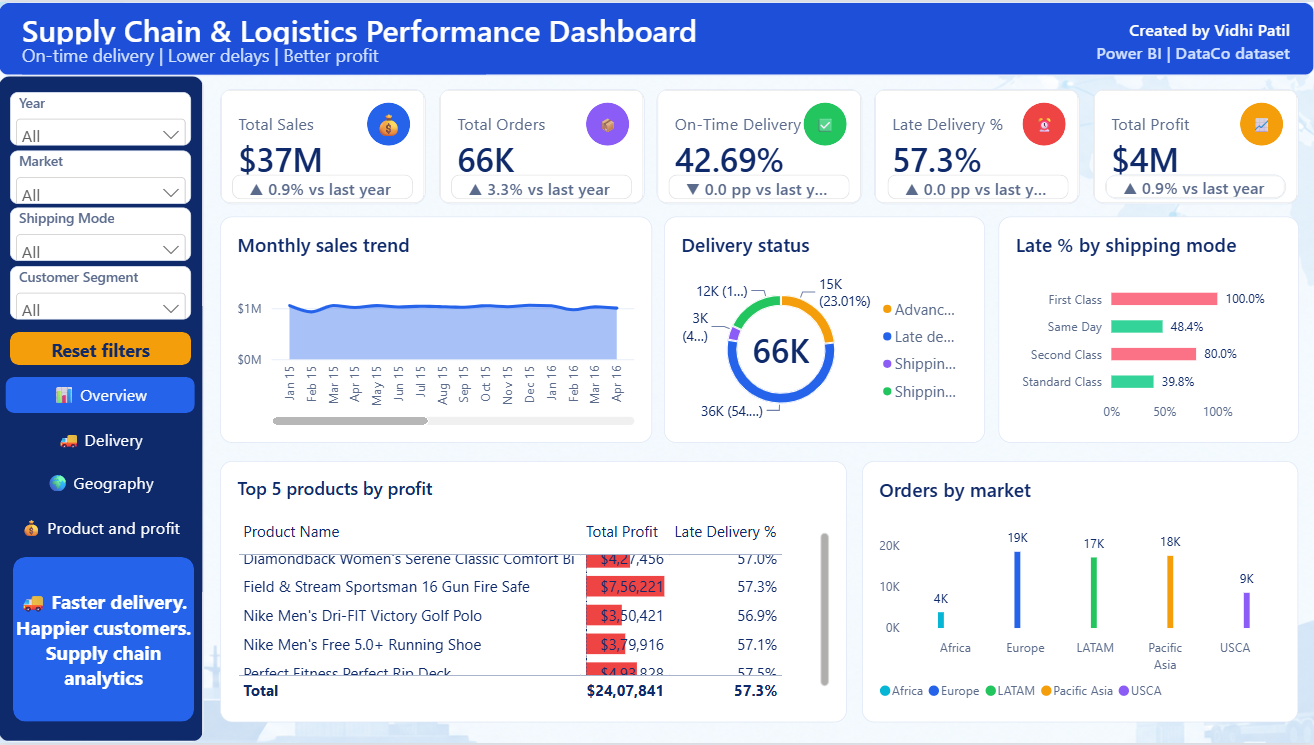

What the dashboard file says about the page in this screenshot:
{"tool":"powerbi","page":{"name":"📊 Overview","canvas":[1280,720],"ordinal":0},"visuals":[{"type":"shape","box":[0,0,1280,72],"z":0},{"type":"shape","box":[0,72,200,648],"z":1},{"type":"textbox","title":"Supply Chain & Logistics Performance Dashboard","box":[24,8,760,34],"z":2},{"type":"textbox","title":"On-time delivery | Lower delays | Better profit","box":[24,40,600,24],"z":3},{"type":"textbox","title":"Created by Vidhi Patil","box":[980,16,276,22],"z":4},{"type":"textbox","title":"Power BI | DataCo dataset","box":[980,38,276,22],"z":5},{"type":"slicer","fields":{"Values":["Dim_Date.Year"]},"box":[12,88,176,52],"z":6},{"type":"slicer","fields":{"Values":["Fact_Orders.Market"]},"box":[12,144,176,52],"z":7},{"type":"slicer","fields":{"Values":["Fact_Orders.Shipping Mode"]},"box":[12,200,176,52],"z":8},{"type":"slicer","fields":{"Values":["Fact_Orders.Customer Segment"]},"box":[12,256,176,52],"z":9},{"type":"actionButton","box":[12,320,176,32],"z":10},{"type":"pageNavigator","box":[8,364,184,164],"z":11},{"type":"shape","box":[14.6,539.4,176,160],"z":12},{"type":"cardVisual","fields":{"Data":["_Measures.Total Sales"]},"box":[216,84,200,112],"z":13},{"type":"cardVisual","fields":{"Data":["_Measures.Total Orders"]},"box":[428,84,200,112],"z":14},{"type":"cardVisual","fields":{"Data":["_Measures.On-Time Delivery %"]},"box":[640,84,200,112],"z":15},{"type":"cardVisual","fields":{"Data":["_Measures.Late Delivery %"]},"box":[852,84,200,112],"z":16},{"type":"cardVisual","fields":{"Data":["_Measures.Total Profit"]},"box":[1064,84,200,112],"z":17},{"type":"shape","box":[359,97,42,42],"z":18},{"type":"shape","box":[571,97,42,42],"z":19},{"type":"shape","box":[783,97,42,42],"z":20},{"type":"shape","box":[995,97,42,42],"z":21},{"type":"shape","box":[1207,97,42,42],"z":22},{"type":"cardVisual","fields":{"Data":["_Measures.Sales Delta Text"]},"box":[228,168,176,24],"z":23},{"type":"cardVisual","fields":{"Data":["_Measures.OnTime Delta Text"]},"box":[652,168,176,24],"z":24},{"type":"cardVisual","fields":{"Data":["_Measures.Orders Delta Text"]},"box":[440,168,176,24],"z":25},{"type":"cardVisual","fields":{"Data":["_Measures.Late Delta Text"]},"box":[864,168,176,24],"z":26},{"type":"cardVisual","fields":{"Data":["_Measures.Profit Delta Text"]},"box":[1076,168,176,24],"z":27},{"type":"areaChart","title":"Monthly sales trend","fields":{"Category":["Dim_Date.Month Year"],"Y":["_Measures.Total Sales"]},"box":[216,208,420,220],"z":28},{"type":"donutChart","title":"Delivery status","fields":{"Category":["Fact_Orders.Delivery Status"],"Y":["_Measures.Total Orders"]},"box":[648,208,312,220],"z":29},{"type":"clusteredBarChart","title":"Late % by shipping mode","fields":{"Category":["Fact_Orders.Shipping Mode"],"Y":["_Measures.Late Delivery %"]},"box":[972,208,292,220],"z":30},{"type":"tableEx","title":"Top 5 products by profit","fields":{"Values":["Fact_Orders.Product Name","_Measures.Total Profit","_Measures.Late Delivery %"]},"box":[215.8,446.1,609.4,253.7],"z":31},{"type":"clusteredColumnChart","title":"Orders by market","fields":{"Category":["Fact_Orders.Market"],"Series":["Fact_Orders.Market"],"Y":["_Measures.Total Orders"]},"box":[839.7,446.1,424.2,253.7],"z":32}]}

Visuals, with their boxes in screenshot pixels (x1, y1, x2, y2), scaled from the page's 1280x720 canvas onto the 1314x745 screenshot:
shape: l=0, t=0, r=1313, b=74
shape: l=0, t=74, r=205, b=744
"Supply Chain & Logistics Performance Dashboard" textbox: l=25, t=8, r=805, b=43
"On-time delivery | Lower delays | Better profit" textbox: l=25, t=41, r=641, b=66
"Created by Vidhi Patil" textbox: l=1006, t=17, r=1289, b=39
"Power BI | DataCo dataset" textbox: l=1006, t=39, r=1289, b=62
slicer - Dim_Date.Year: l=12, t=91, r=193, b=145
slicer - Fact_Orders.Market: l=12, t=149, r=193, b=203
slicer - Fact_Orders.Shipping Mode: l=12, t=207, r=193, b=261
slicer - Fact_Orders.Customer Segment: l=12, t=265, r=193, b=319
actionButton: l=12, t=331, r=193, b=364
pageNavigator: l=8, t=377, r=197, b=546
shape: l=15, t=558, r=196, b=724
cardVisual - _Measures.Total Sales: l=222, t=87, r=427, b=203
cardVisual - _Measures.Total Orders: l=439, t=87, r=645, b=203
cardVisual - _Measures.On-Time Delivery %: l=657, t=87, r=862, b=203
cardVisual - _Measures.Late Delivery %: l=875, t=87, r=1080, b=203
cardVisual - _Measures.Total Profit: l=1092, t=87, r=1298, b=203
shape: l=369, t=100, r=412, b=144
shape: l=586, t=100, r=629, b=144
shape: l=804, t=100, r=847, b=144
shape: l=1021, t=100, r=1065, b=144
shape: l=1239, t=100, r=1282, b=144
cardVisual - _Measures.Sales Delta Text: l=234, t=174, r=415, b=199
cardVisual - _Measures.OnTime Delta Text: l=669, t=174, r=850, b=199
cardVisual - _Measures.Orders Delta Text: l=452, t=174, r=632, b=199
cardVisual - _Measures.Late Delta Text: l=887, t=174, r=1068, b=199
cardVisual - _Measures.Profit Delta Text: l=1105, t=174, r=1285, b=199
"Monthly sales trend" areaChart: l=222, t=215, r=653, b=443
"Delivery status" donutChart: l=665, t=215, r=986, b=443
"Late % by shipping mode" clusteredBarChart: l=998, t=215, r=1298, b=443
"Top 5 products by profit" tableEx: l=222, t=462, r=847, b=724
"Orders by market" clusteredColumnChart: l=862, t=462, r=1297, b=724
